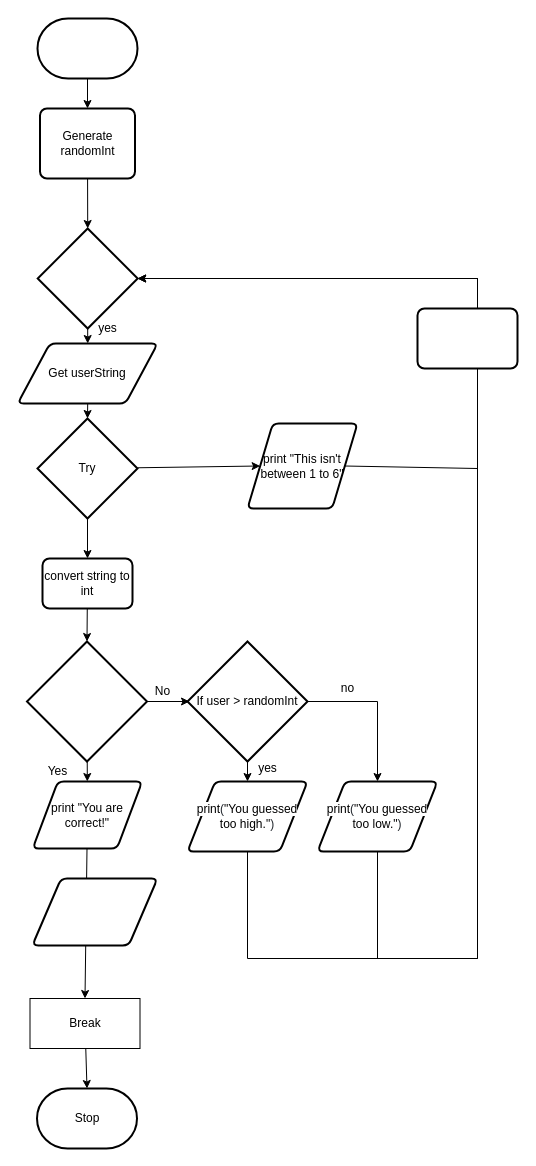
Some shapes in this 536 by 1166 pixel diagram are drawn without their labels. The box of each missing label's shape, as (x1, y1, x2, y2) in pixels:
counter + 1: (416, 307, 518, 369)
print " It took you counter tries": (31, 877, 158, 946)
Start: (36, 17, 138, 79)
user == randomInt: (26, 640, 148, 762)
While (True): (36, 227, 138, 329)
